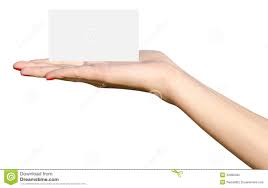hand: (7, 53, 178, 97)
